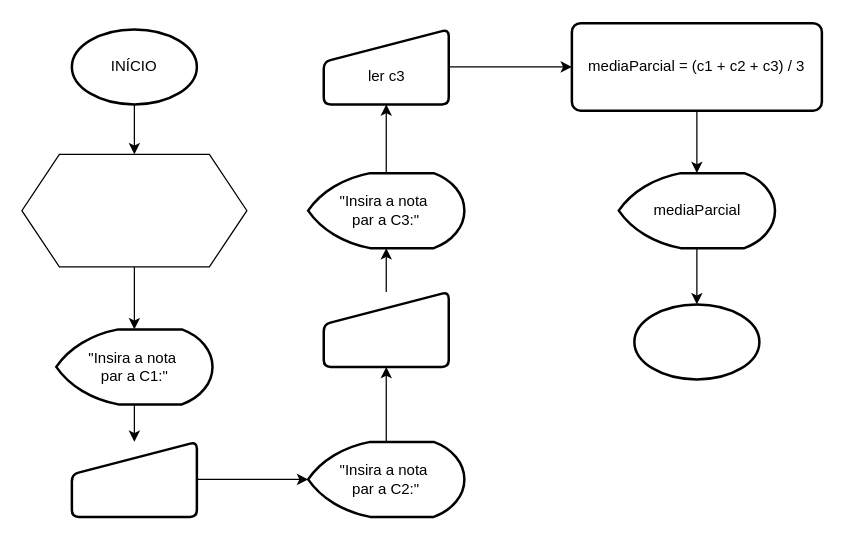
This 845x539 diagram has some shape labels left out. Each missing label, with the centre of its shape:
"c1 c2 c3 mediaParcial" belongs at (134,210).
"FIM" belongs at (696,341).
"ler c1" belongs at (134,479).
"ler c2" belongs at (385,329).
